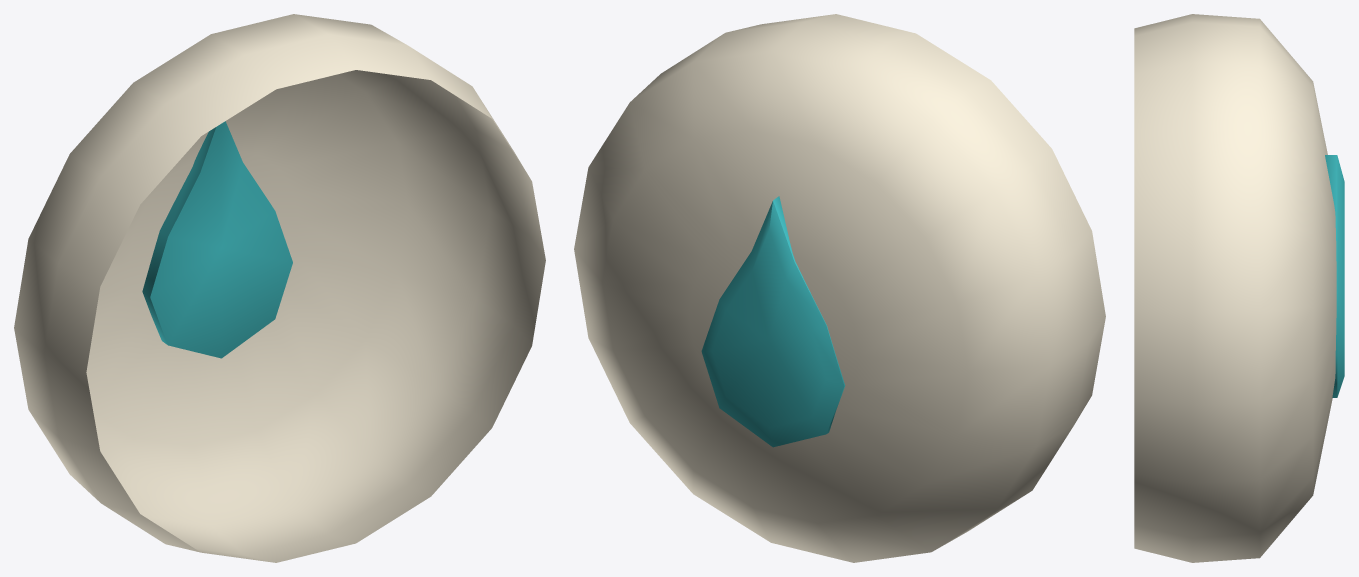
Rendered from EDV2_PushButton.fbx.
3 renders of one model, left to right at view 1: azimuth 30°, elevation 25°; view 2: azimuth 150°, elevation 25°; view 3: azimuth 270°, elevation 25°, orthographic.
Parts seen in each view (by area): view 1: Cap; view 2: Cap; view 3: Cap.
Part boxes in pixels (x1,y1,x2,y2): Cap: [14, 14, 545, 562]; Cap: [574, 14, 1105, 562]; Cap: [1134, 14, 1344, 562].
Size of the model in its own units: 0.057 by 0.0561 by 0.0218.
